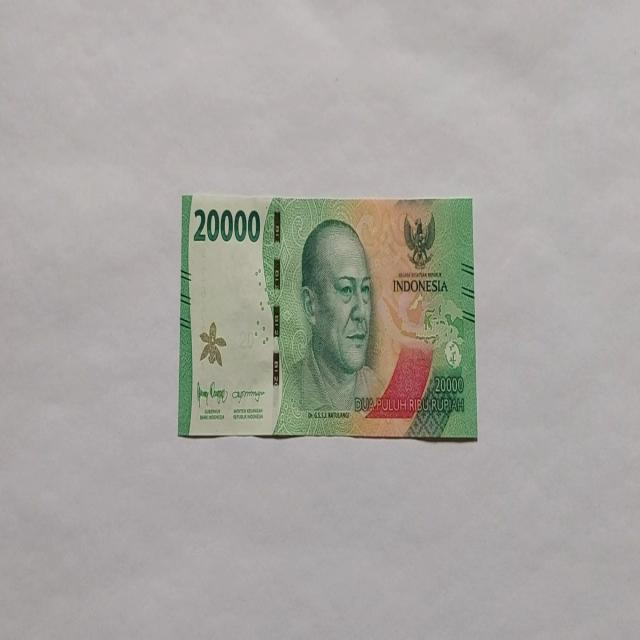dua puluh ribu rupiah: (177, 192, 477, 441), (274, 216, 388, 434)
